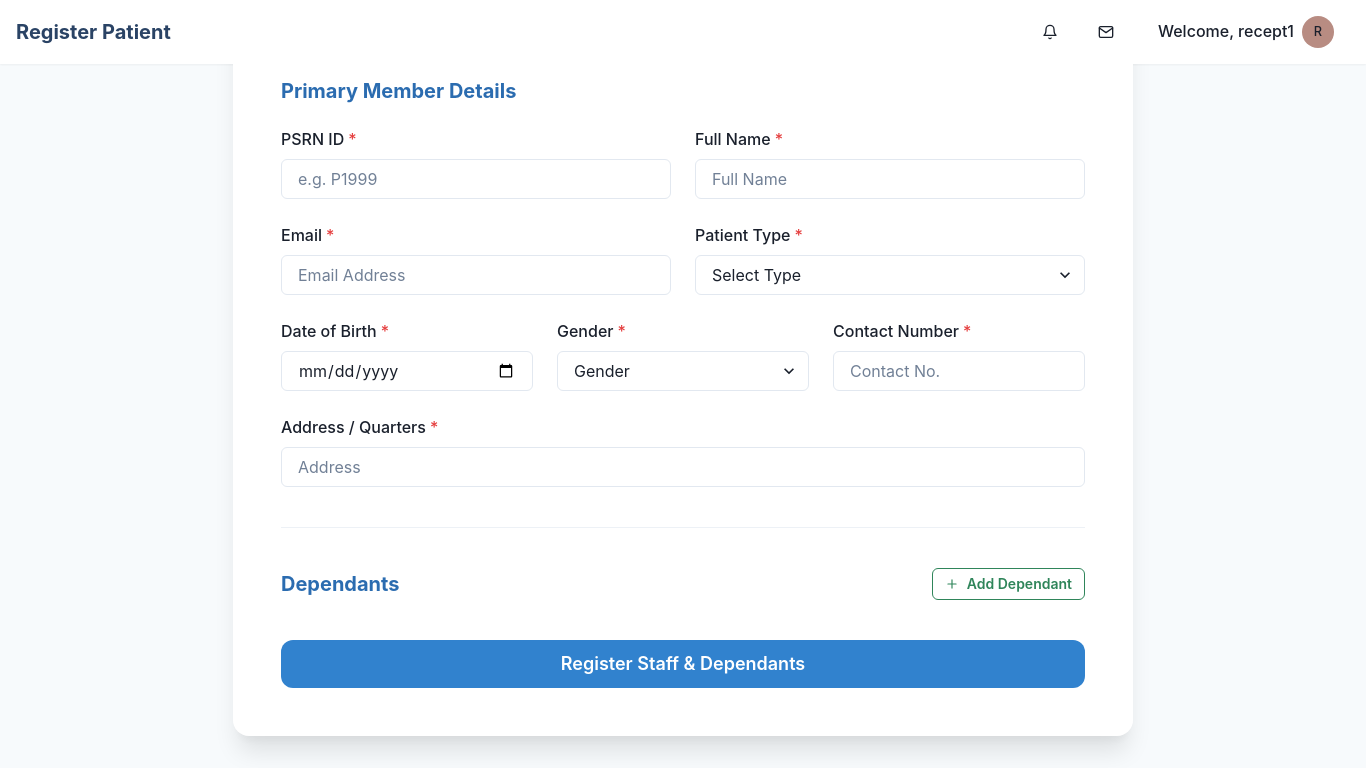
ReceptionistStaffRegistration Component › adds and removes a dependant row in New Registration tab
(page scrolled)
Click the button "Add Dependant".
click(1008, 584)  # box [932,568,1085,600]
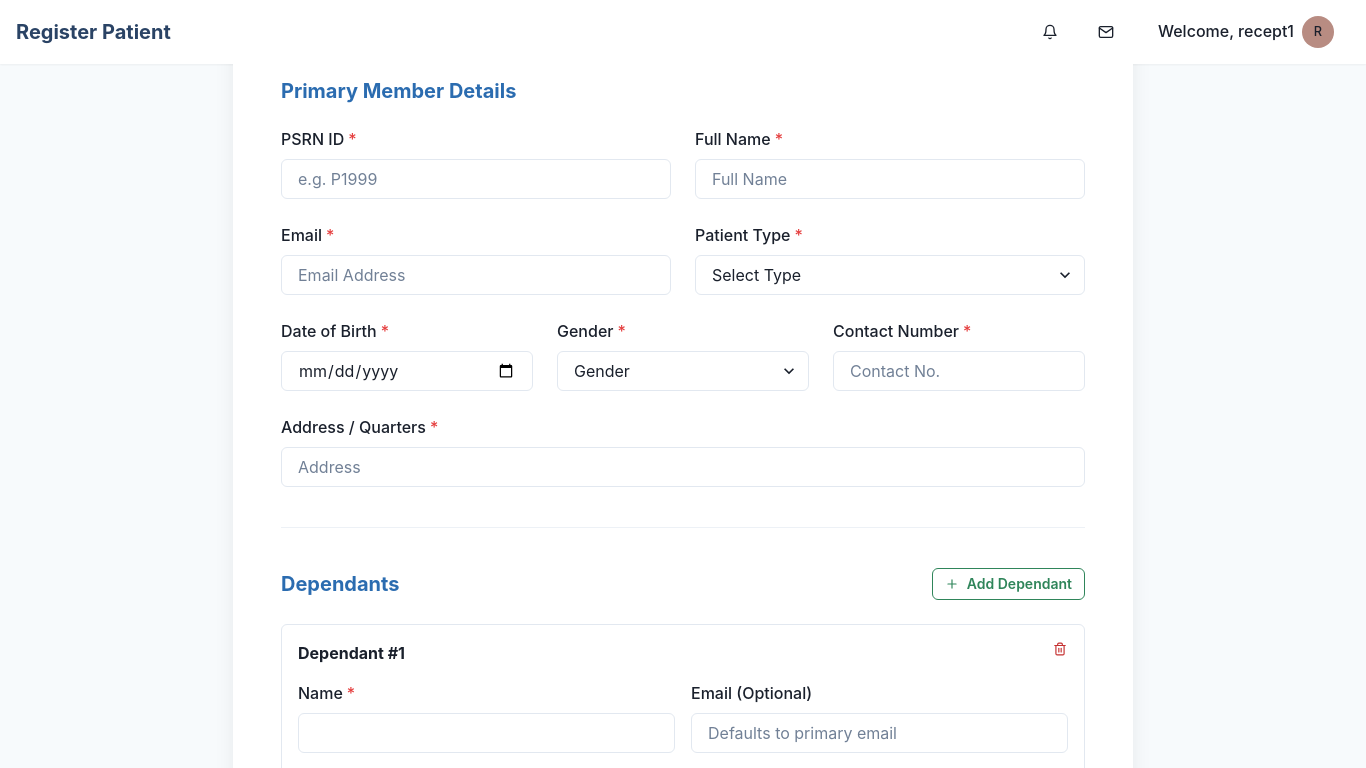
Expected: the text "Dependant #1" is shown, [298,643,405,663]
